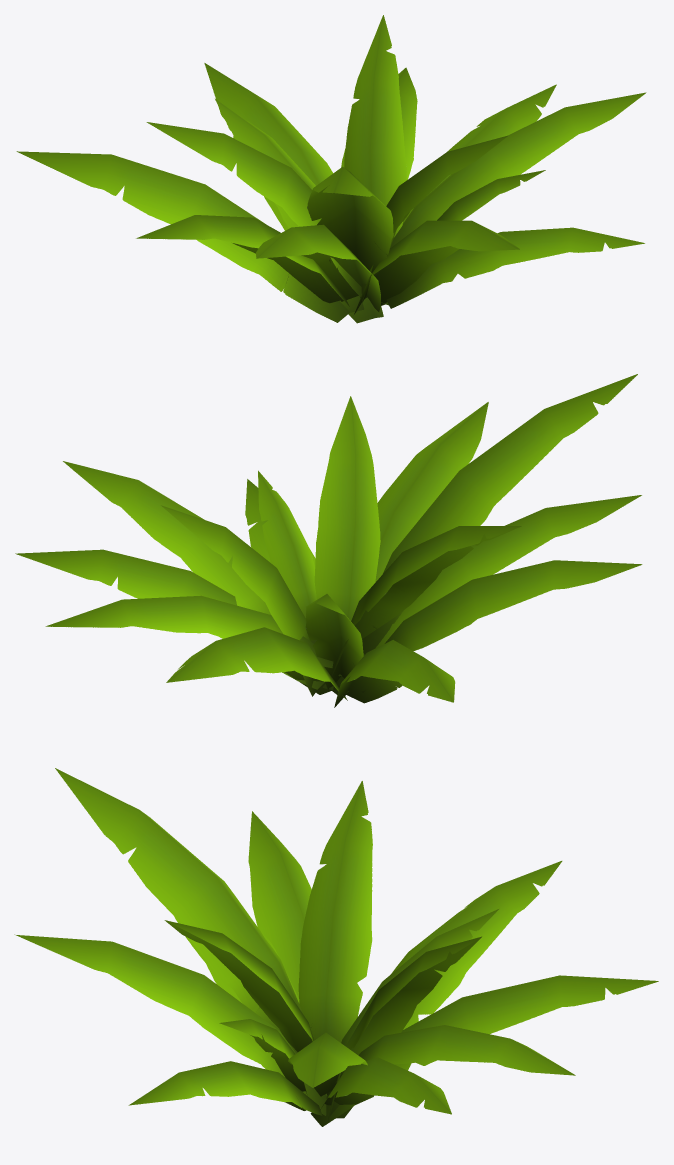
File: Fern 3.FBX
The picture shows the model from 3 angles, top to bottom: view 1: azimuth 30°, elevation 25°; view 2: azimuth 150°, elevation 25°; view 3: azimuth 270°, elevation 25°; orthographic projection.
Visible parts, largest first — view 1: Plane006; view 2: Plane006; view 3: Plane006.
Boxes of the visible parts, x1,y1,x2,y2 form: Plane006: (16, 15, 646, 323); Plane006: (15, 374, 642, 707); Plane006: (14, 768, 658, 1126).
Size of the model in its own units: 17.78 by 8.53 by 17.78.
1 material, 1 textured.
